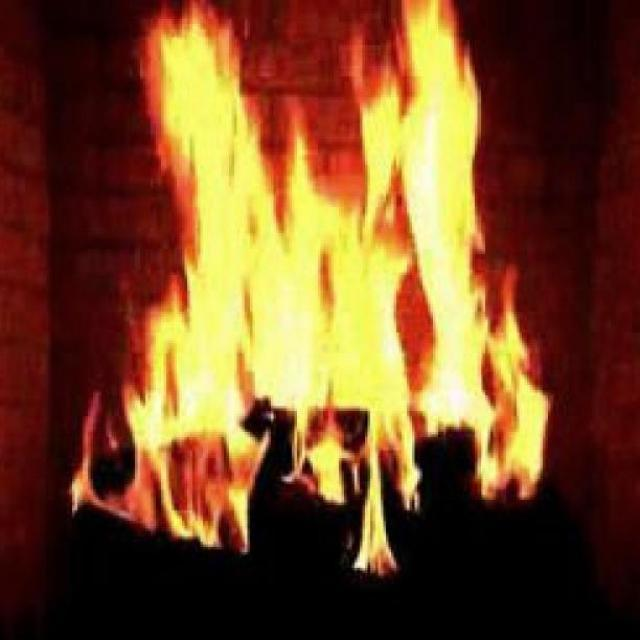smoke: (120, 0, 549, 445)
